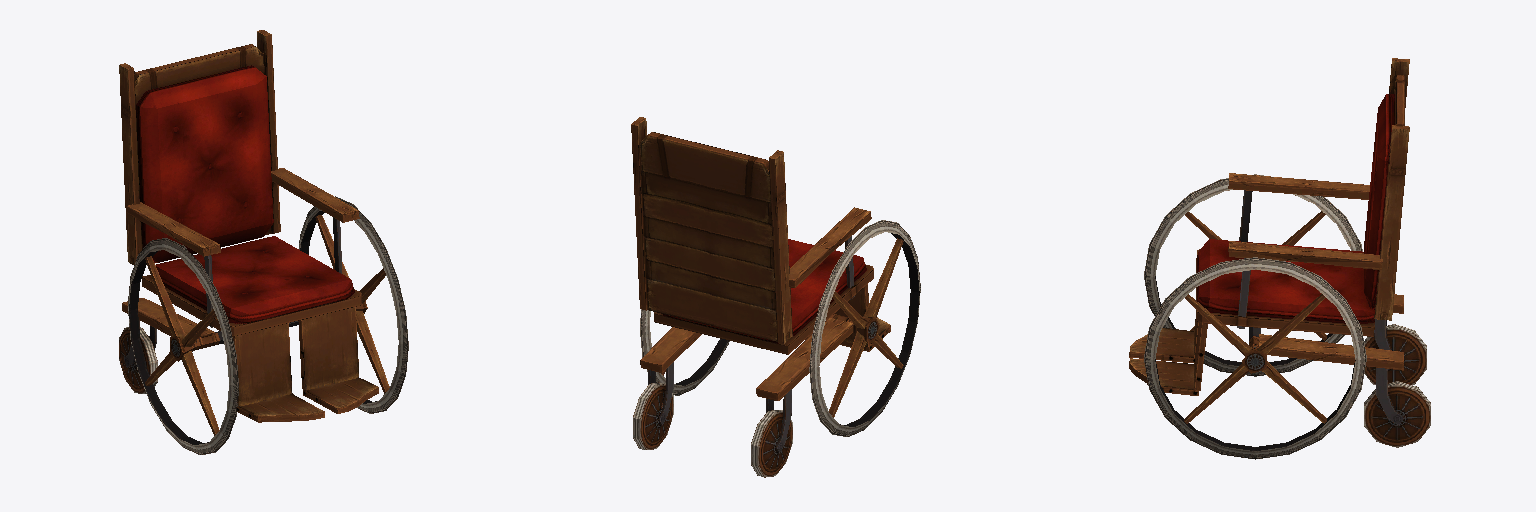
3 renders of one model, left to right at view 1: azimuth 30°, elevation 25°; view 2: azimuth 150°, elevation 25°; view 3: azimuth 270°, elevation 25°, orthographic.
Visible parts, largest first — view 1: Wheelchair; view 2: Wheelchair; view 3: Wheelchair.
Part boxes in pixels (bbox=[...]): Wheelchair: bbox=[119, 30, 408, 454]; Wheelchair: bbox=[631, 117, 920, 477]; Wheelchair: bbox=[1129, 58, 1430, 459].
Size of the model in its own units: 142 by 239 by 201.
Materials: 1 (1 with a texture image).